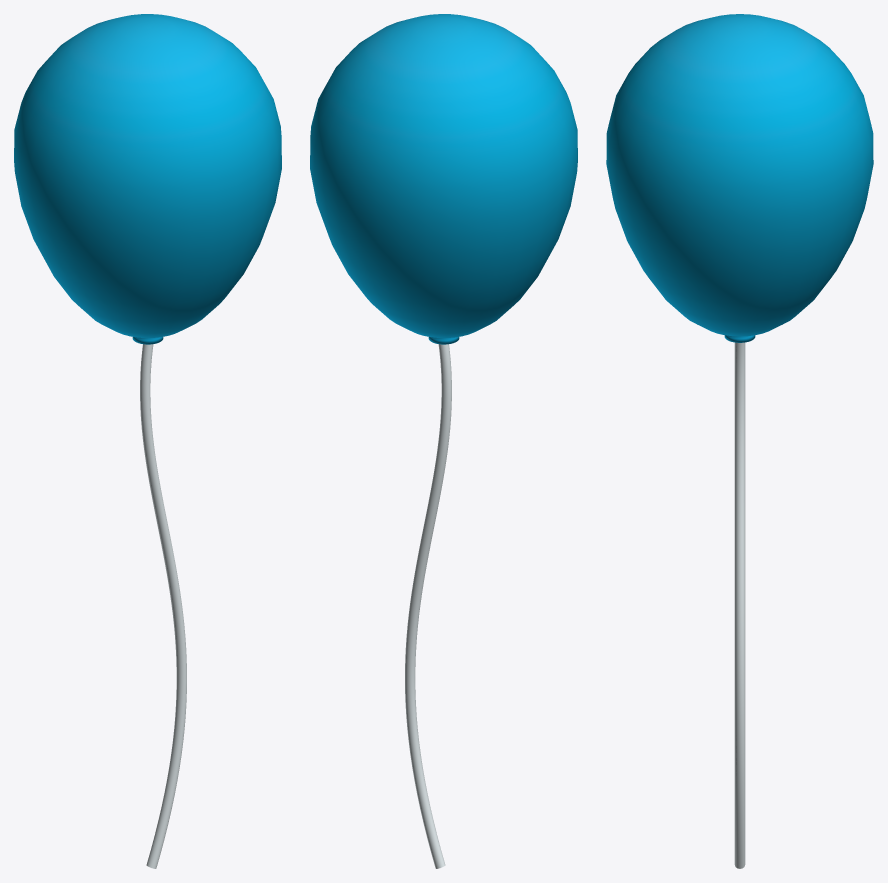
Rendered from Balon Biru.fbx.
3 renders of one model, left to right at view 1: azimuth 30°, elevation 25°; view 2: azimuth 150°, elevation 25°; view 3: azimuth 270°, elevation 25°, orthographic.
Visible parts, largest first — view 1: Sphere.002, NurbsPath.001; view 2: Sphere.002, NurbsPath.001; view 3: Sphere.002, NurbsPath.001.
Boxes of the visible parts, x1=… form: Sphere.002: x1=14, y1=14, x2=281, y2=344; NurbsPath.001: x1=140, y1=344, x2=186, y2=868; Sphere.002: x1=310, y1=14, x2=577, y2=344; NurbsPath.001: x1=405, y1=344, x2=451, y2=868; Sphere.002: x1=606, y1=14, x2=873, y2=342; NurbsPath.001: x1=734, y1=342, x2=745, y2=868.
Size of the model in its own units: 62.72 by 217 by 62.72.
